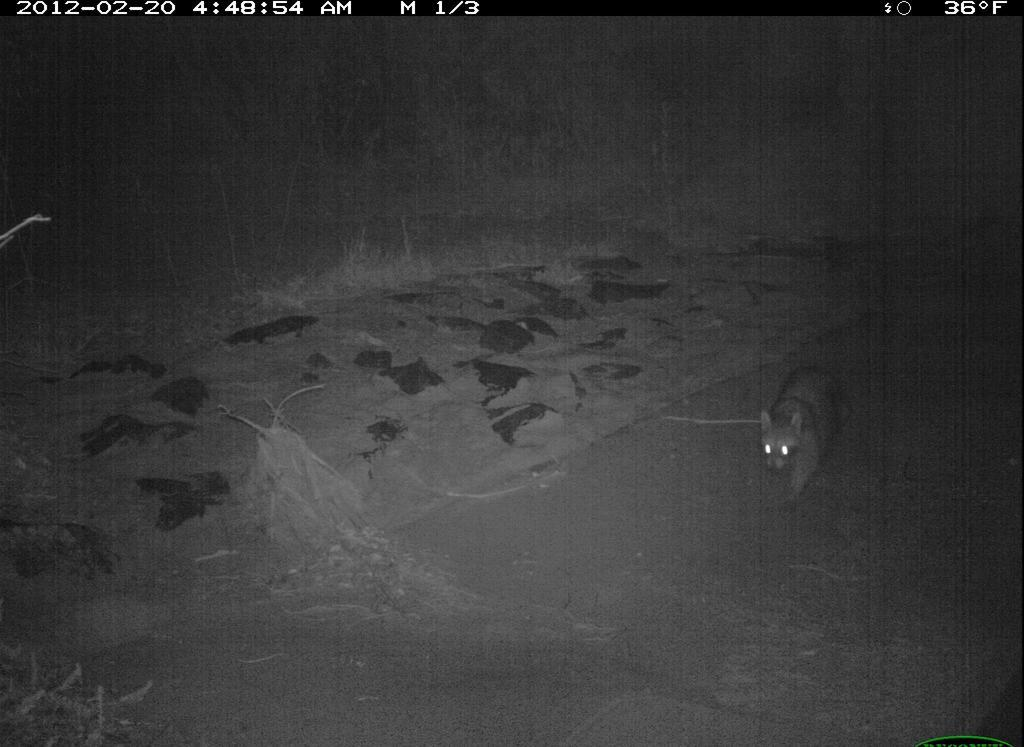raccoon: (753, 356, 868, 525)
